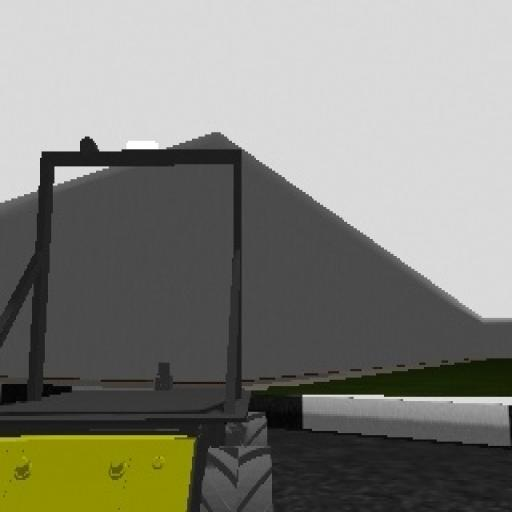huskya200: (0, 117, 280, 512)
